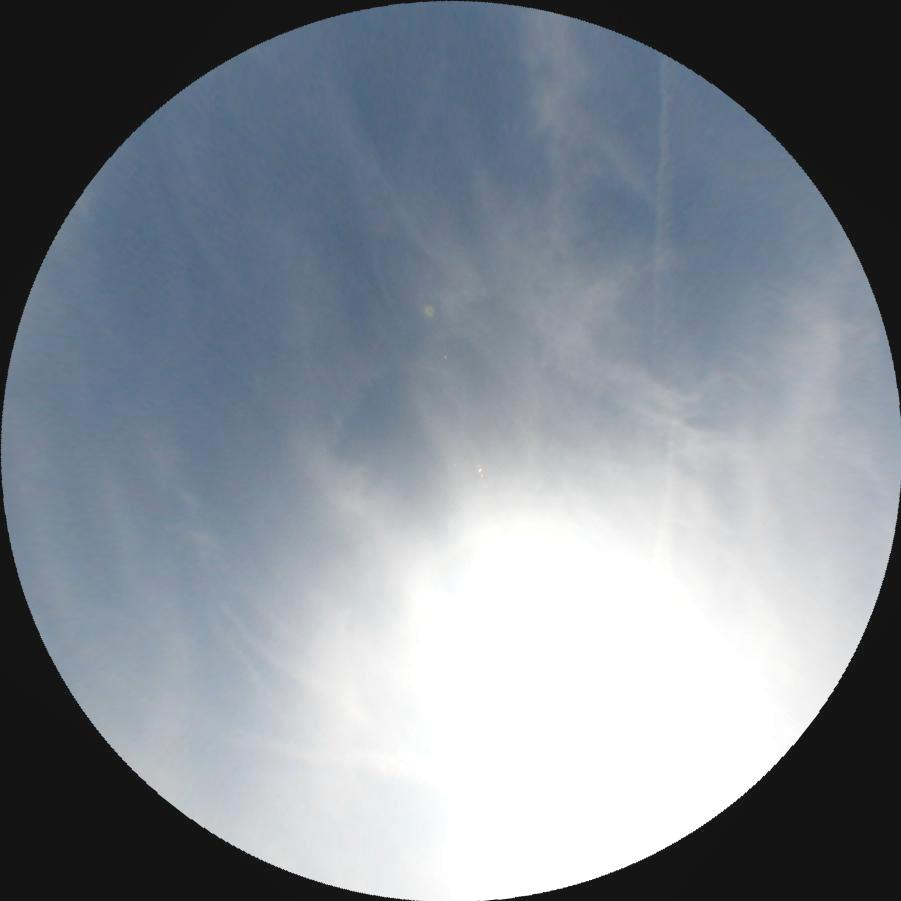contrail old: (645, 54, 682, 654)
contrail veryold: (185, 717, 518, 796)
sun: (441, 543, 708, 820)
